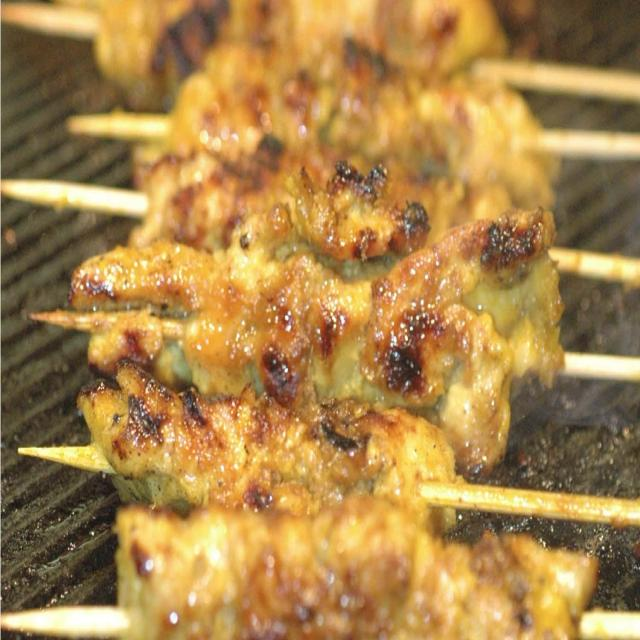Sate: (52, 50, 632, 576)
